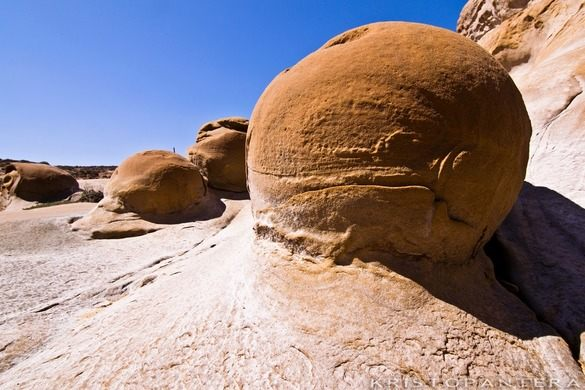volcanic_rock: (238, 21, 528, 277), (96, 148, 229, 233)
